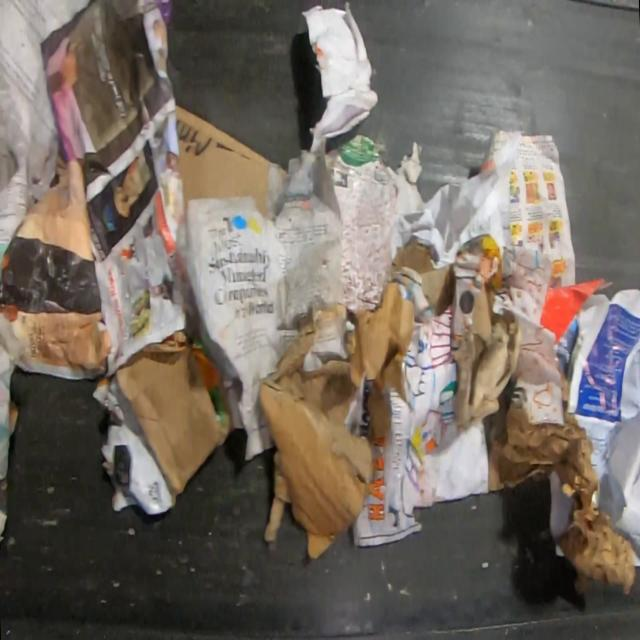cardboard: (258, 279, 418, 561), (90, 327, 236, 518), (448, 242, 523, 433), (173, 104, 291, 221), (298, 0, 380, 153), (392, 237, 454, 315)
